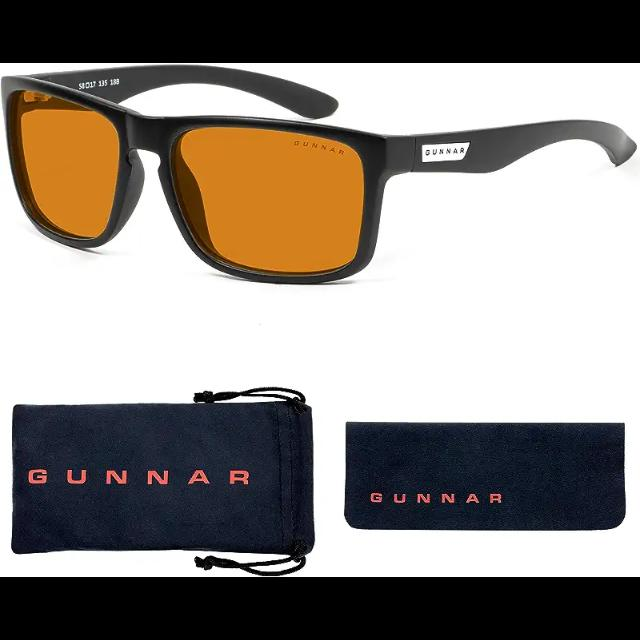Sunglasses: (0, 65, 640, 288)
